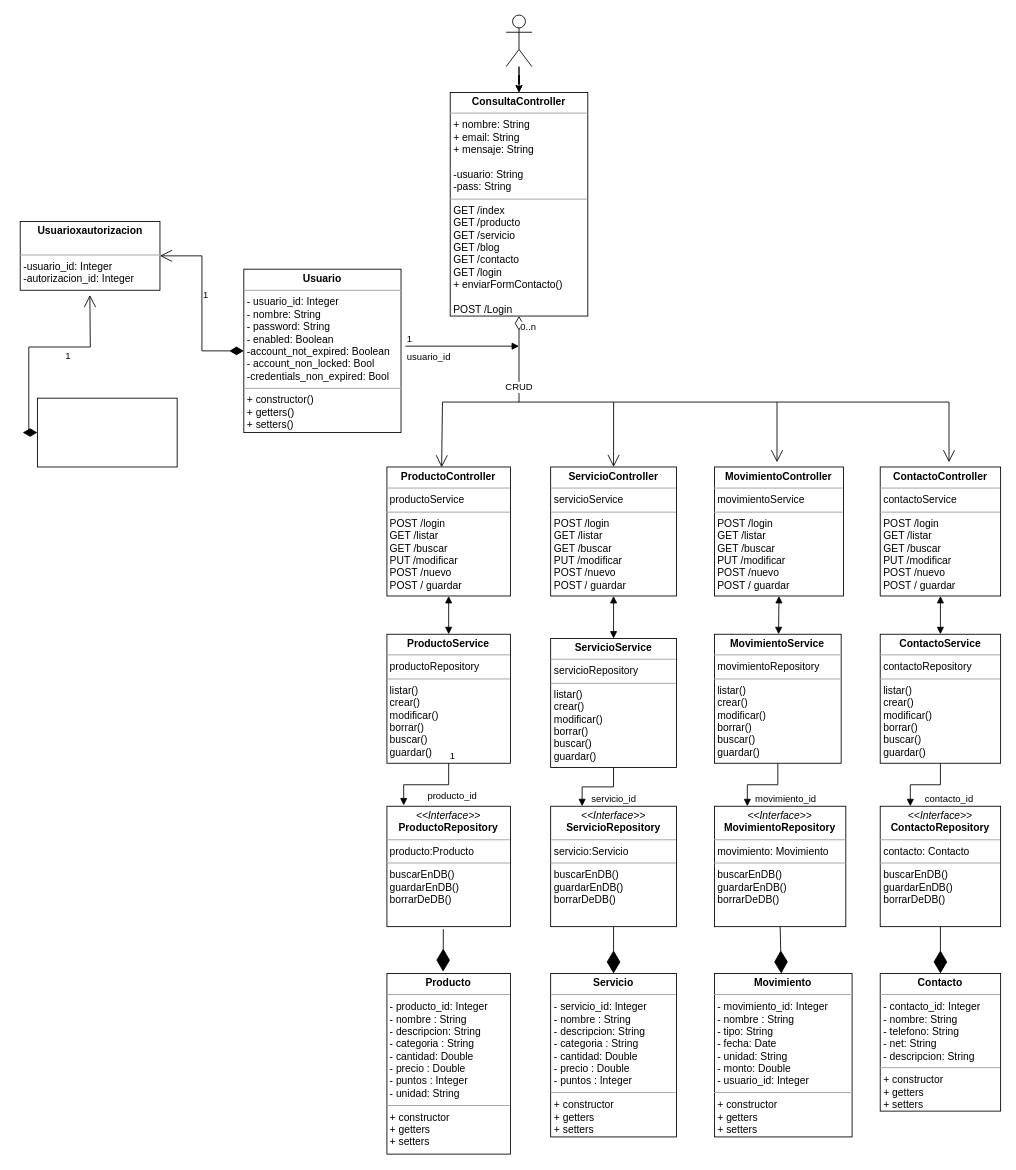
This 1016x1170 diagram has some shape labels left out. Here are the shapes that lost their labels. From the top down, the centre of each, then its label:
point 518,40: Usuario
point 107,432: Autorizacion -autorizacion_id: Integer -rol: String
